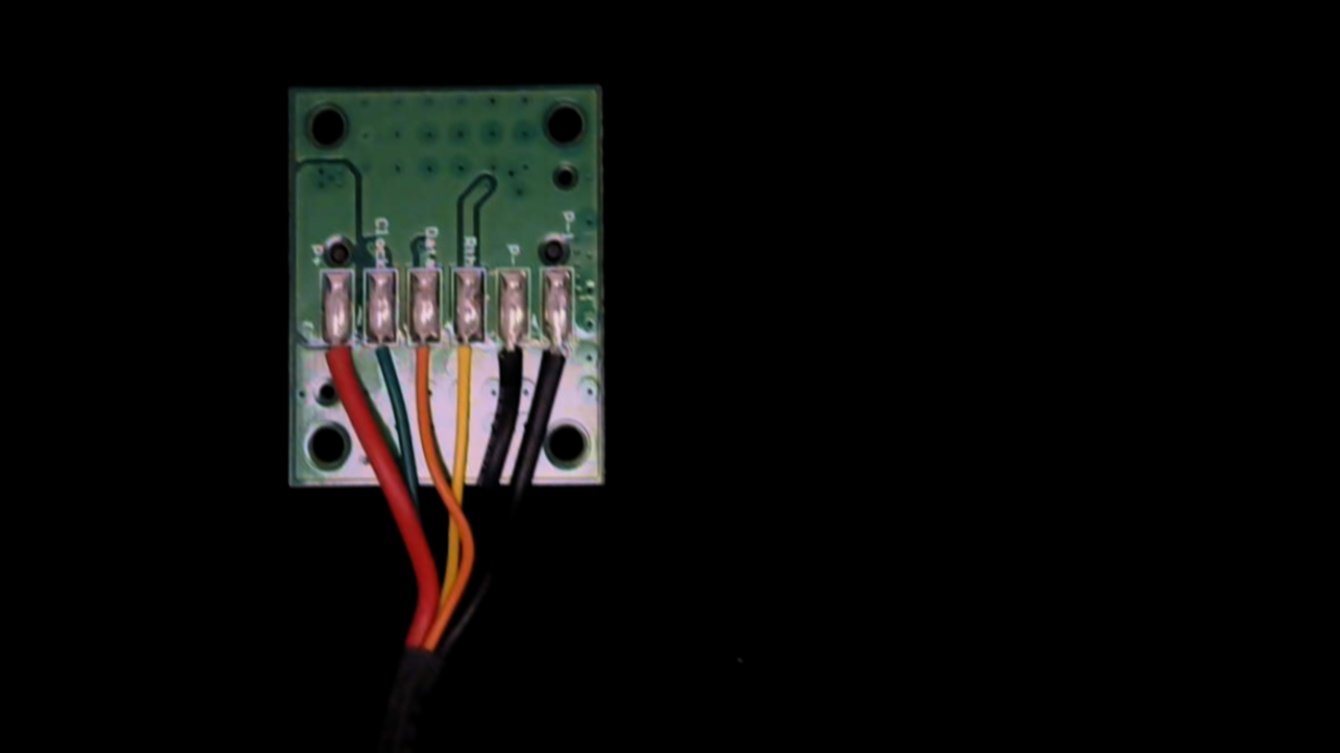Black: (495, 324, 526, 393)
Black1: (539, 325, 572, 394)
Green: (362, 323, 397, 386)
Orange: (405, 324, 442, 388)
Red: (320, 322, 350, 387)
Yellow: (448, 326, 485, 396)
